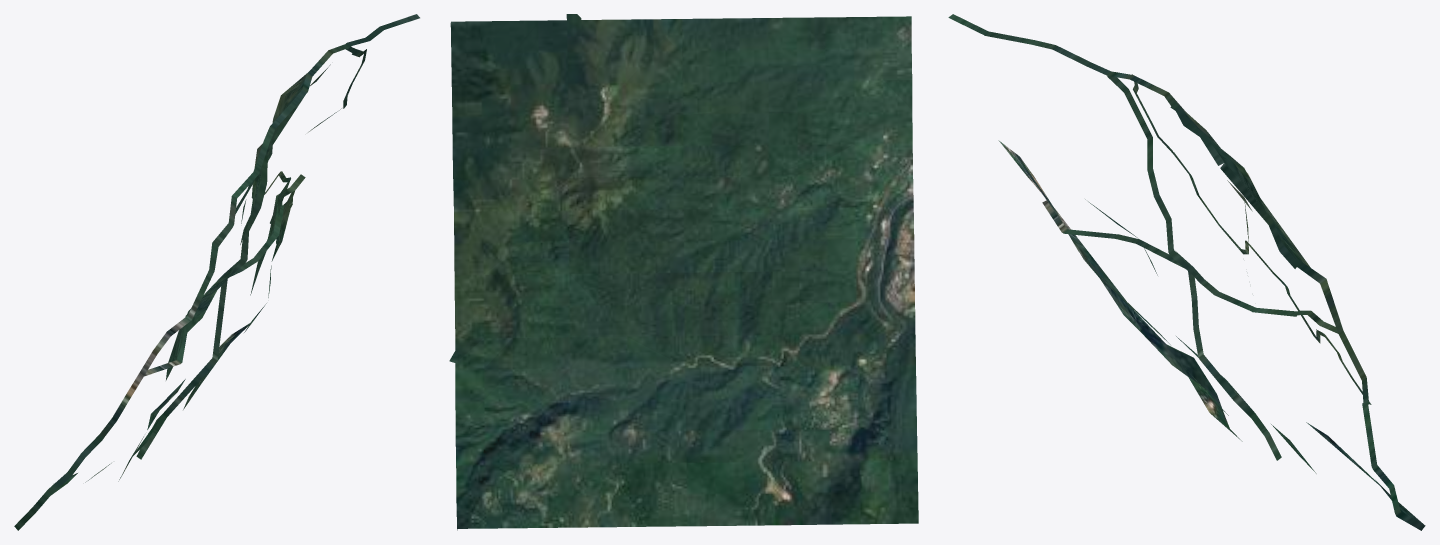
3 views of the same model, side by side, from view 1: azimuth 30°, elevation 25°; view 2: azimuth 150°, elevation 25°; view 3: azimuth 270°, elevation 25° (orthographic). The views are drawn at different scales.
Bounding box in the file's own units: 4958 × 4659 × 4527.
Materials: 1 (1 with a texture image).
